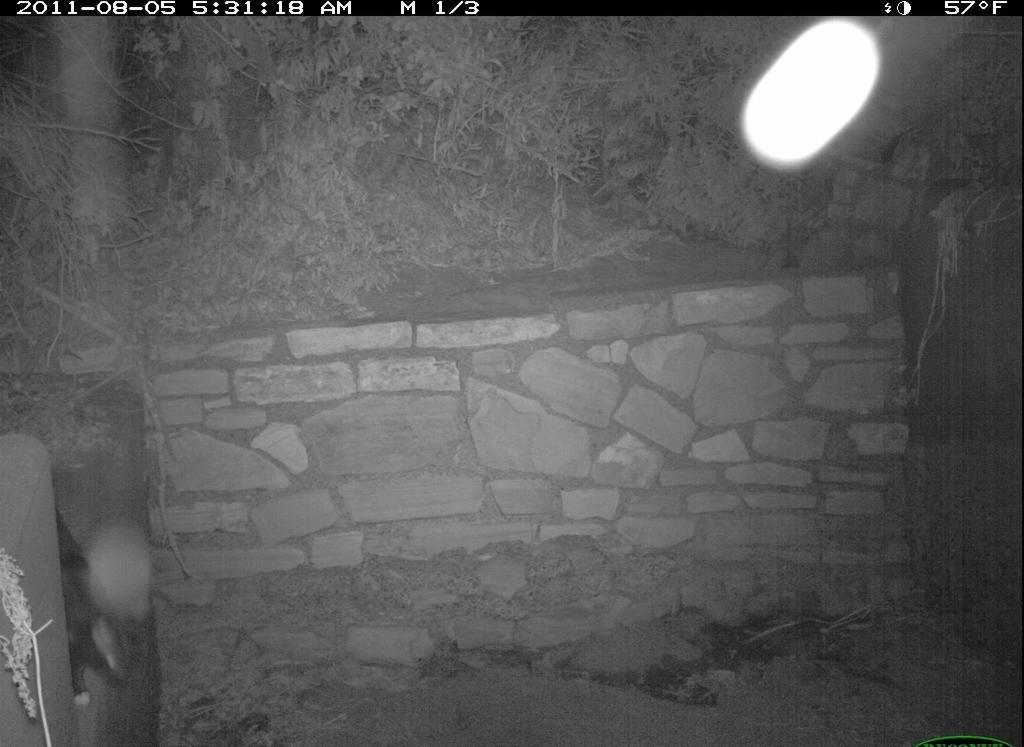cat: (49, 487, 184, 717)
